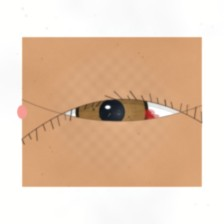hemorrhage_spot: (105, 96, 163, 143)
